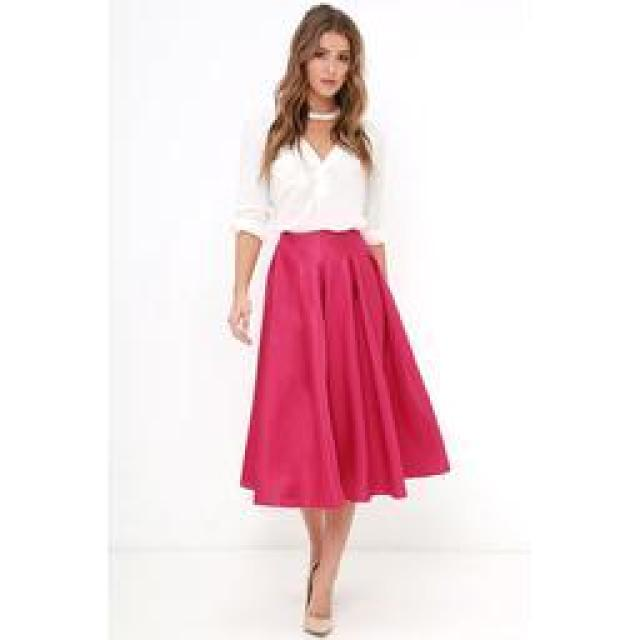shirt: (229, 114, 389, 246)
skirt: (238, 230, 450, 505)
